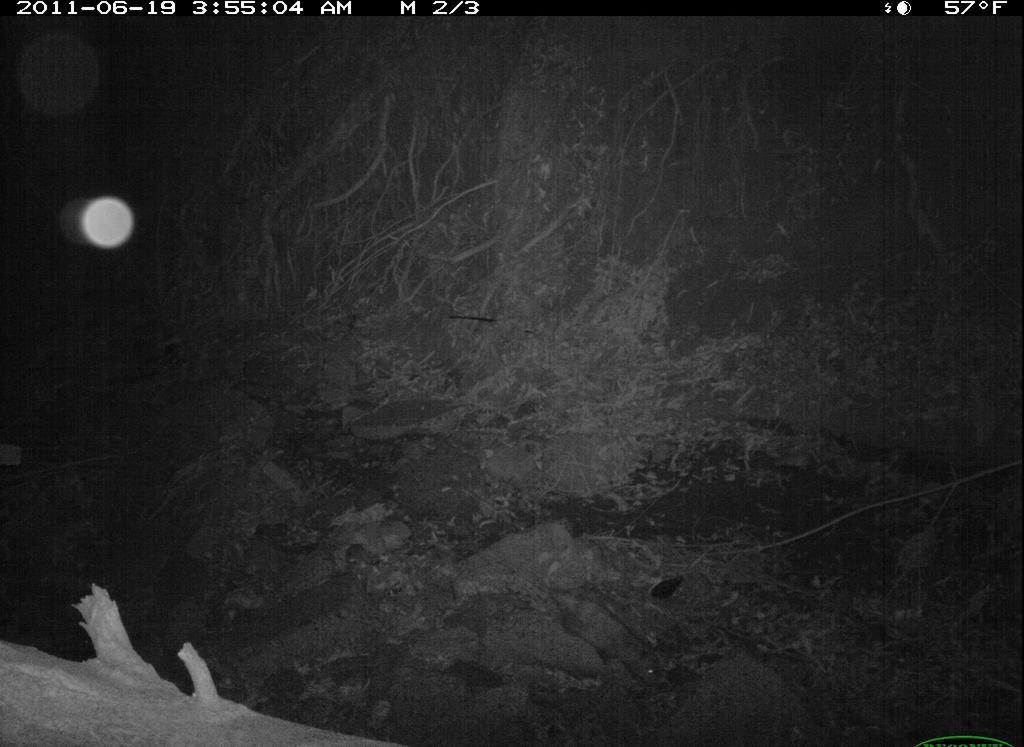opossum: (524, 562, 684, 694)
